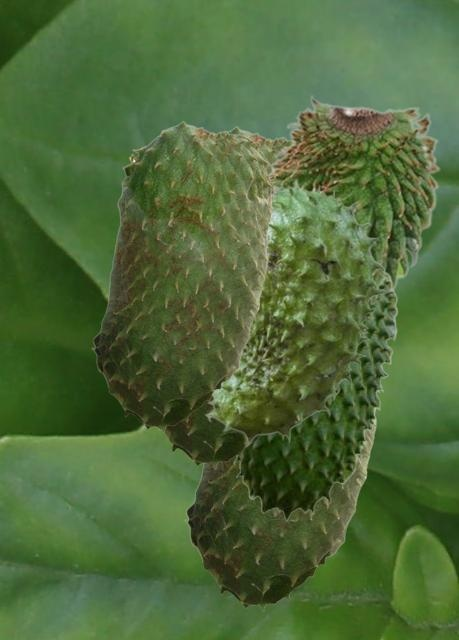guyabano: (91, 120, 277, 431), (203, 177, 391, 447), (184, 367, 383, 610), (157, 125, 291, 468), (232, 277, 397, 520), (268, 94, 440, 305)
